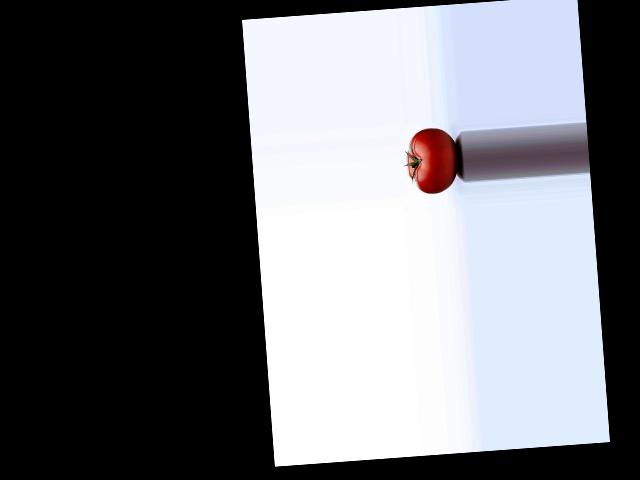tomato: (405, 126, 459, 195)
